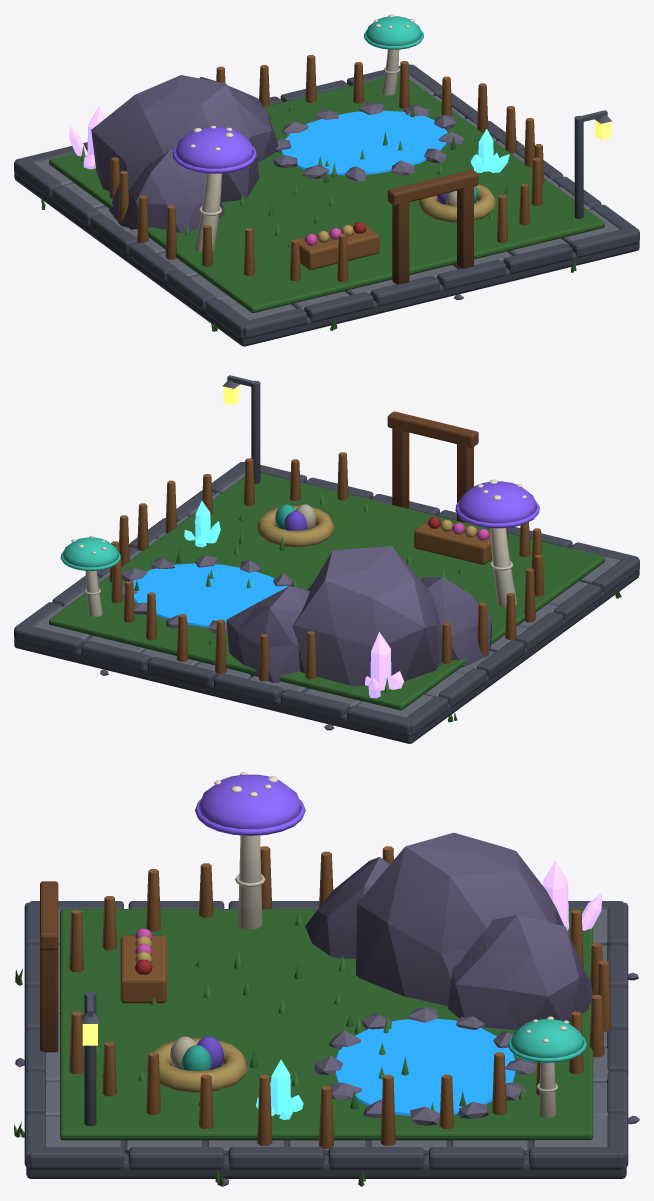
The model's file is monster_habitat.glb.
3 renders of one model, top to bottom at view 1: azimuth 30°, elevation 25°; view 2: azimuth 150°, elevation 25°; view 3: azimuth 270°, elevation 25°, orthographic. The views are drawn at different scales.
Parts seen in each view (by area): view 1: t0_moss, t0_stone_dark, t0_rock, t0_wood, t0_water, t0_stone, t0_wood_dark, t2_mushroom_violet, t0_rock_light, t0_mushroom_teal, t0_straw, t2_mushroom_stem (+4 smaller); view 2: t0_moss, t0_rock, t0_stone_dark, t0_wood, t0_water, t0_stone, t0_wood_dark, t2_mushroom_violet, t0_straw, t0_mushroom_teal, t0_rock_light, t2_mushroom_stem (+4 smaller); view 3: t0_moss, t0_rock, t0_stone_dark, t0_wood, t0_water, t0_stone, t2_mushroom_violet, t0_rock_light, t0_mushroom_teal, t0_wood_dark, t0_straw, t2_mushroom_stem (+4 smaller).
Part boxes in pixels (x1=…): t0_moss: x1=40, y1=74, x2=604, y2=331; t0_stone_dark: x1=14, y1=64, x2=639, y2=346; t0_rock: x1=91, y1=75, x2=278, y2=232; t0_wood: x1=109, y1=55, x2=544, y2=281; t0_water: x1=282, y1=110, x2=447, y2=175; t0_stone: x1=33, y1=73, x2=619, y2=320; t0_wood_dark: x1=387, y1=169, x2=478, y2=284; t2_mushroom_violet: x1=172, y1=126, x2=256, y2=173; t0_rock_light: x1=273, y1=101, x2=464, y2=299; t0_mushroom_teal: x1=364, y1=16, x2=477, y2=203; t0_straw: x1=316, y1=184, x2=496, y2=242; t2_mushroom_stem: x1=190, y1=125, x2=233, y2=252; t0_moss: x1=49, y1=473, x2=621, y2=722; t0_rock: x1=226, y1=546, x2=491, y2=686; t0_stone_dark: x1=14, y1=461, x2=639, y2=743; t0_wood: x1=109, y1=452, x2=544, y2=681; t0_water: x1=133, y1=563, x2=287, y2=627; t0_stone: x1=33, y1=472, x2=620, y2=717; t0_wood_dark: x1=387, y1=411, x2=478, y2=523; t2_mushroom_violet: x1=455, y1=481, x2=539, y2=528; t0_straw: x1=256, y1=505, x2=477, y2=546; t0_mushroom_teal: x1=60, y1=504, x2=295, y2=570; t0_rock_light: x1=100, y1=555, x2=333, y2=730; t2_mushroom_stem: x1=477, y1=479, x2=526, y2=607; t0_moss: x1=14, y1=909, x2=593, y2=1186; t0_rock: x1=305, y1=832, x2=593, y2=1029; t0_stone_dark: x1=24, y1=901, x2=628, y2=1178; t0_wood: x1=69, y1=846, x2=611, y2=1148; t0_water: x1=335, y1=1019, x2=515, y2=1115; t0_stone: x1=44, y1=909, x2=608, y2=1154; t2_mushroom_violet: x1=195, y1=774, x2=305, y2=835; t0_rock_light: x1=15, y1=972, x2=639, y2=1186; t0_mushroom_teal: x1=181, y1=1019, x2=586, y2=1070; t0_wood_dark: x1=40, y1=881, x2=58, y2=1052; t0_straw: x1=134, y1=936, x2=247, y2=1092; t2_mushroom_stem: x1=214, y1=772, x2=278, y2=929.
Size of the model in its own units: 4.13 by 1.49 by 4.11.
